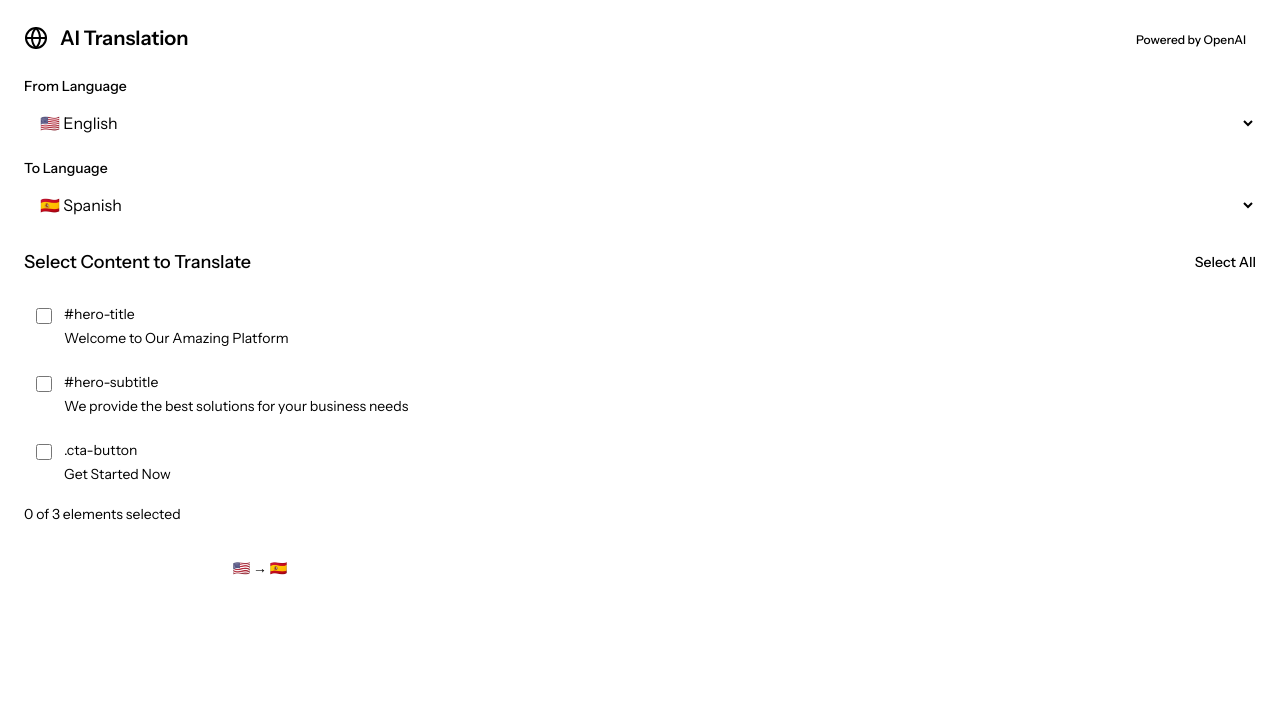
Test: Translation Workflow Integration › Translation Dashboard Component Integration › should handle element selection
Expected: the text "0 of 3 elements selected" is shown, [24,505,181,523]
Note: Select first element
Click the checkbox next to "#hero-title" at (44, 316), box [36,308,52,324]
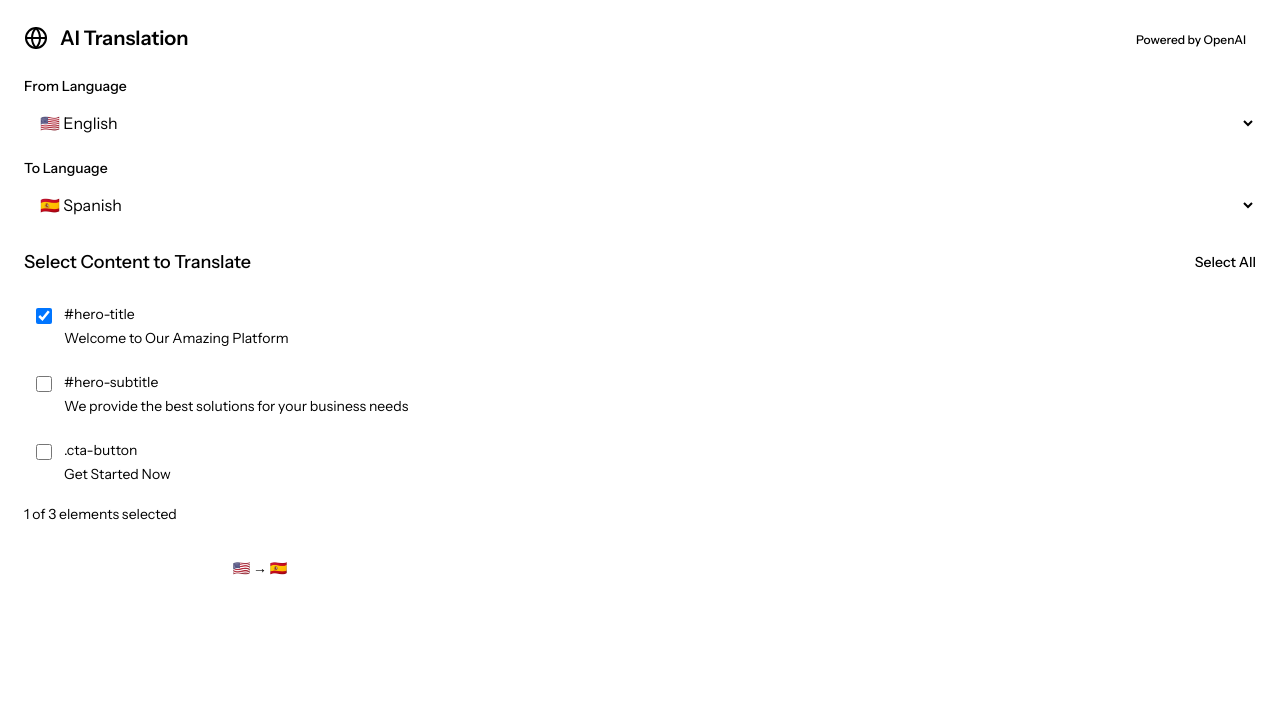
Result: the text "1 of 3 elements selected" is shown at [24,505,177,523]
